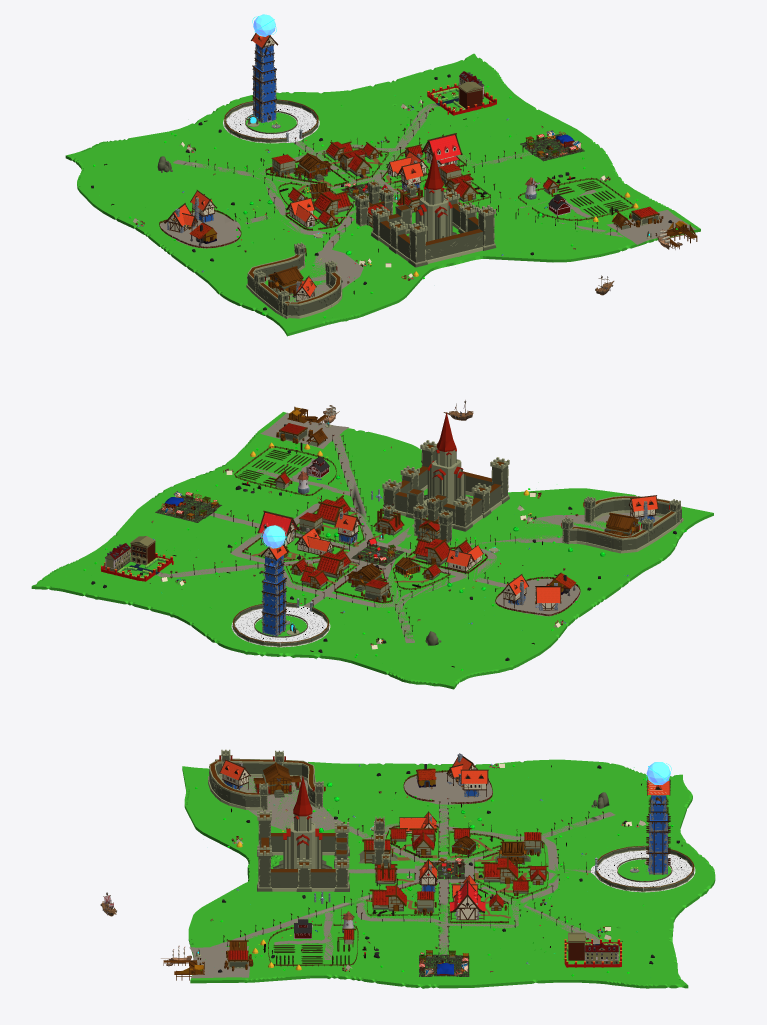
The model's file is island_world_complete_draco.glb.
The picture shows the model from 3 angles, top to bottom: view 1: azimuth 30°, elevation 25°; view 2: azimuth 150°, elevation 25°; view 3: azimuth 270°, elevation 25°; orthographic projection. The views are drawn at different scales.
Parts seen in each view (by area): view 1: Batch_Persistent_Base_M_Village_Atlas, Batch_Chunk_1_1_M_Village_Atlas, Batch_Chunk_1_0_M_Village_Atlas, Batch_Chunk_1_2_M_Village_Atlas, Batch_Chunk_0_0_M_Village_Atlas, Batch_Chunk_0_1_M_Village_Atlas, Batch_Chunk_2_0_M_Village_Atlas, Batch_Chunk_2_1_M_Village_Atlas, Batch_Chunk_2_2_M_Village_Atlas; view 2: Batch_Persistent_Base_M_Village_Atlas, Batch_Chunk_1_1_M_Village_Atlas, Batch_Chunk_1_0_M_Village_Atlas, Batch_Chunk_0_0_M_Village_Atlas, Batch_Chunk_1_2_M_Village_Atlas, Batch_Chunk_2_0_M_Village_Atlas, Batch_Chunk_0_1_M_Village_Atlas, Batch_Chunk_2_1_M_Village_Atlas, Batch_Chunk_2_2_M_Village_Atlas; view 3: Batch_Persistent_Base_M_Village_Atlas, Batch_Chunk_1_1_M_Village_Atlas, Batch_Chunk_1_0_M_Village_Atlas, Batch_Chunk_1_2_M_Village_Atlas, Batch_Chunk_0_0_M_Village_Atlas, Batch_Chunk_2_0_M_Village_Atlas, Batch_Chunk_0_1_M_Village_Atlas, Batch_Chunk_2_1_M_Village_Atlas, Batch_Chunk_2_2_M_Village_Atlas.
Boxes of the visible parts, x1,y1,x2,y2 form: Batch_Persistent_Base_M_Village_Atlas: (65, 53, 700, 336); Batch_Chunk_1_1_M_Village_Atlas: (195, 111, 575, 247); Batch_Chunk_1_0_M_Village_Atlas: (371, 151, 533, 279); Batch_Chunk_1_2_M_Village_Atlas: (198, 33, 386, 180); Batch_Chunk_0_0_M_Village_Atlas: (246, 201, 372, 318); Batch_Chunk_0_1_M_Village_Atlas: (129, 188, 319, 261); Batch_Chunk_2_0_M_Village_Atlas: (458, 177, 697, 249); Batch_Chunk_2_1_M_Village_Atlas: (402, 126, 633, 220); Batch_Chunk_2_2_M_Village_Atlas: (380, 71, 511, 178); Batch_Persistent_Base_M_Village_Atlas: (31, 412, 713, 689); Batch_Chunk_1_1_M_Village_Atlas: (194, 452, 510, 631); Batch_Chunk_1_0_M_Village_Atlas: (382, 412, 530, 531); Batch_Chunk_0_0_M_Village_Atlas: (415, 495, 686, 556); Batch_Chunk_1_2_M_Village_Atlas: (210, 544, 389, 659); Batch_Chunk_2_0_M_Village_Atlas: (238, 406, 391, 520); Batch_Chunk_0_1_M_Village_Atlas: (409, 544, 600, 630); Batch_Chunk_2_1_M_Village_Atlas: (151, 446, 354, 564); Batch_Chunk_2_2_M_Village_Atlas: (83, 536, 321, 605); Batch_Persistent_Base_M_Village_Atlas: (182, 759, 715, 988); Batch_Chunk_1_1_M_Village_Atlas: (255, 801, 589, 951); Batch_Chunk_1_0_M_Village_Atlas: (222, 776, 349, 904); Batch_Chunk_1_2_M_Village_Atlas: (474, 779, 695, 906); Batch_Chunk_0_0_M_Village_Atlas: (195, 749, 419, 857); Batch_Chunk_2_0_M_Village_Atlas: (163, 888, 386, 980); Batch_Chunk_0_1_M_Village_Atlas: (376, 753, 528, 854); Batch_Chunk_2_1_M_Village_Atlas: (268, 879, 527, 976); Batch_Chunk_2_2_M_Village_Atlas: (465, 876, 654, 976).
Size of the model in its own units: 335 by 63.82 by 375.
Materials: 30 (9 with a texture image).
